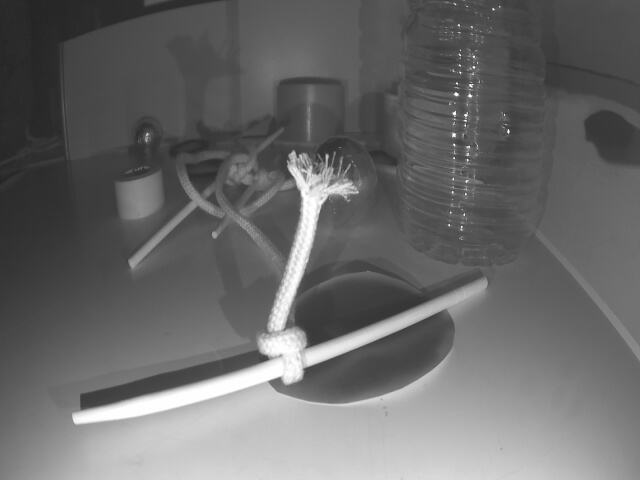Live: (132, 122, 163, 156)
